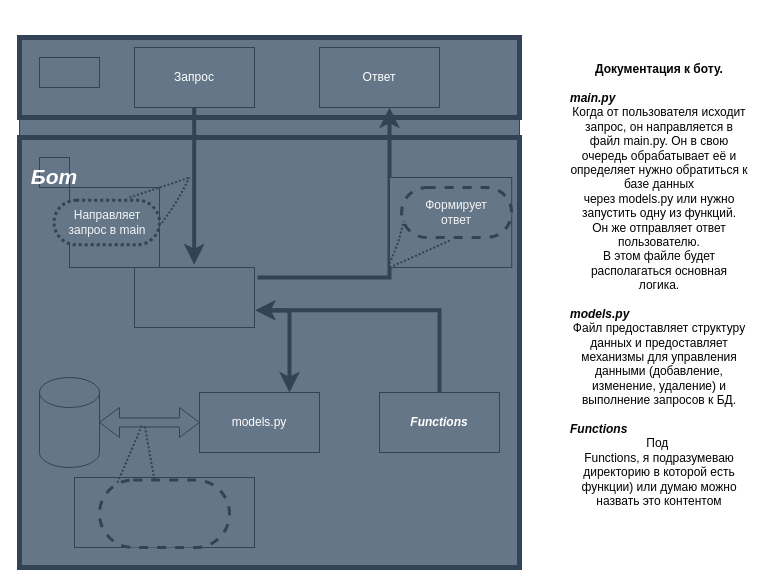
This 767x587 diagram has some shape labels left out. Here are the shapes that lost their labels. From the top down, the centre of each, then its label:
point (69, 72): Пользователи
point (194, 297): main.py
point (69, 422): База данных
point (164, 513): Запись - чтение данных
